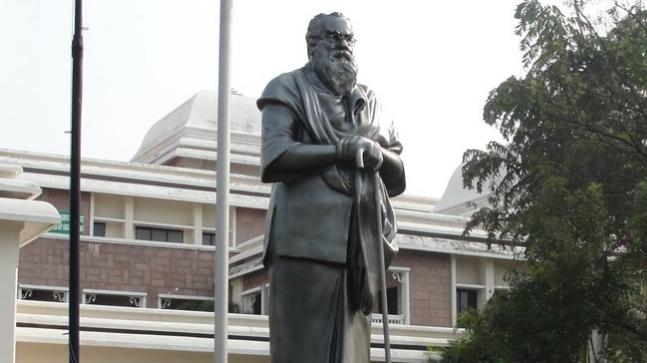person-like: (252, 8, 410, 363)
